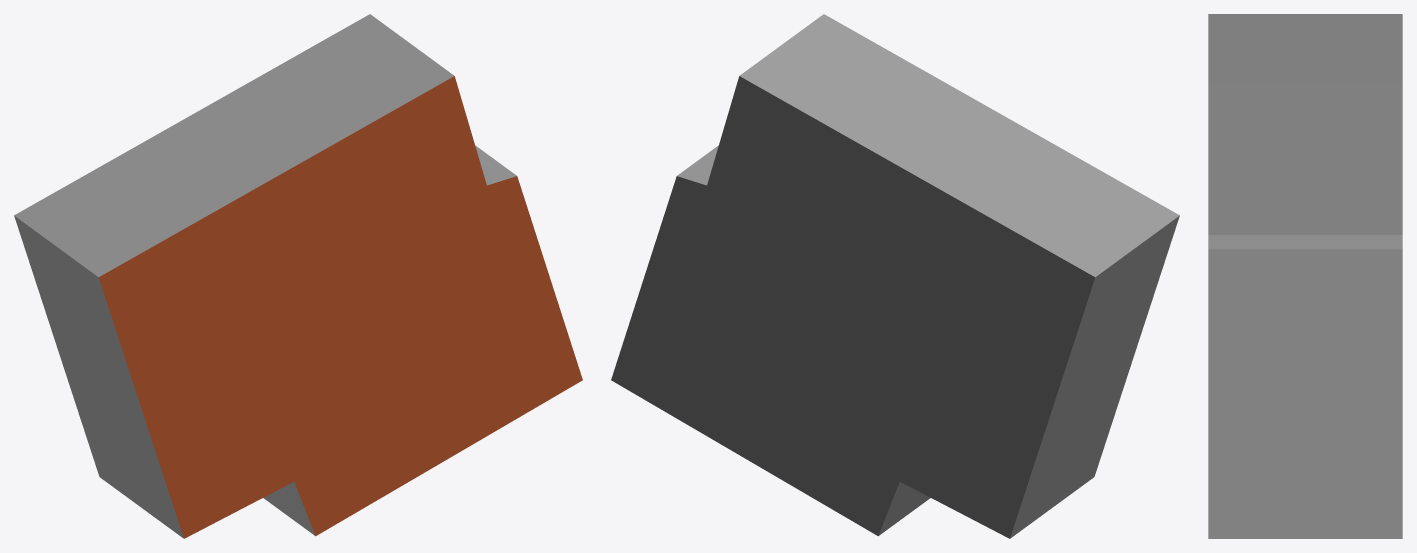
The model's file is construction_6201_assumed_A_Casa_h6m.obj.
3 renders of one model, left to right at view 1: azimuth 30°, elevation 25°; view 2: azimuth 150°, elevation 25°; view 3: azimuth 270°, elevation 25°, orthographic. The views are drawn at different scales.
Parts seen in each view (by area): view 1: construction_6201_assumed_A_Casa; view 2: construction_6201_assumed_A_Casa; view 3: construction_6201_assumed_A_Casa.
Part boxes in pixels (box(x1,y1,x2,y2)): construction_6201_assumed_A_Casa: box(14, 14, 582, 538); construction_6201_assumed_A_Casa: box(611, 14, 1179, 538); construction_6201_assumed_A_Casa: box(1208, 14, 1402, 538).
Bounding box in the file's own units: 19.83 × 16.68 × 6.
